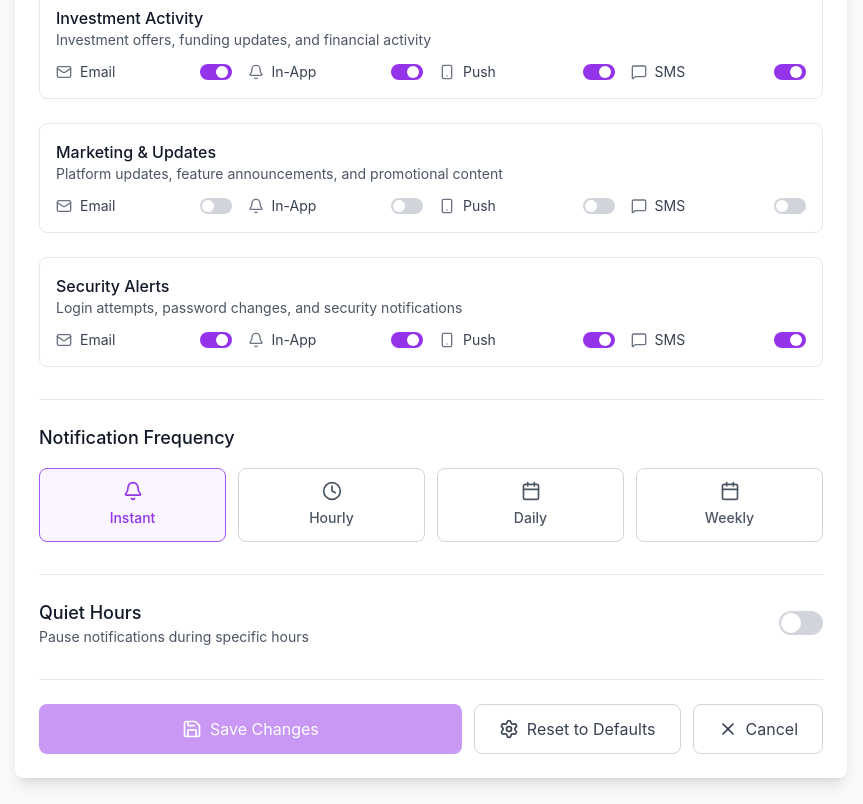
Test: NotificationSettings › Save button state › Save Changes button is enabled after making a change
(page scrolled)
Click the button "Reset to Defaults" at [577, 729], box [474,704,680,754]
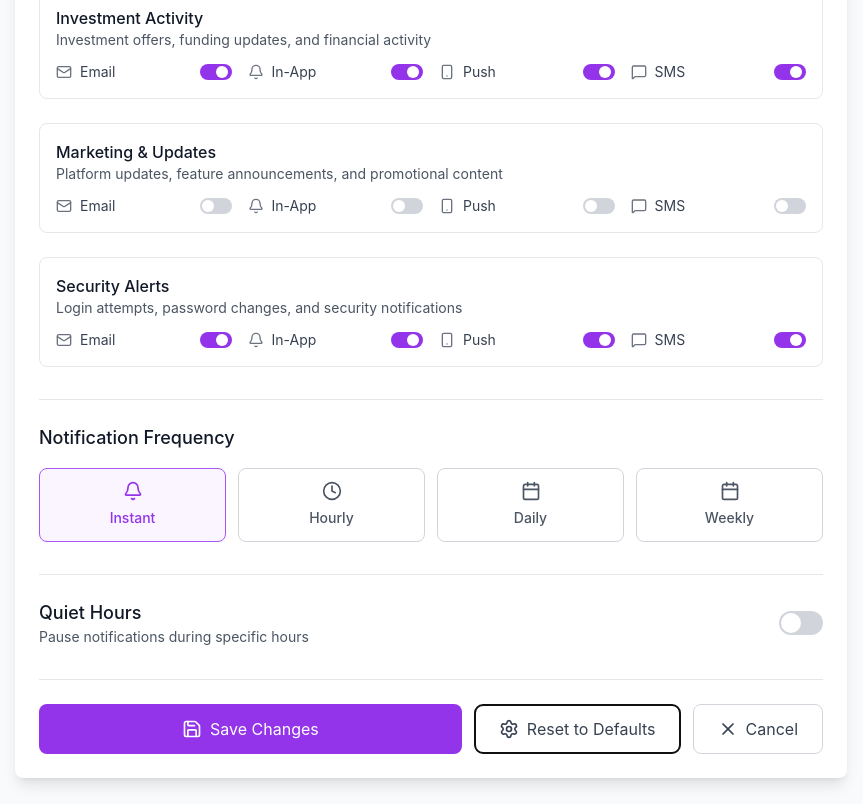
Now the button "Save Changes" is enabled, box [39,704,462,754]
